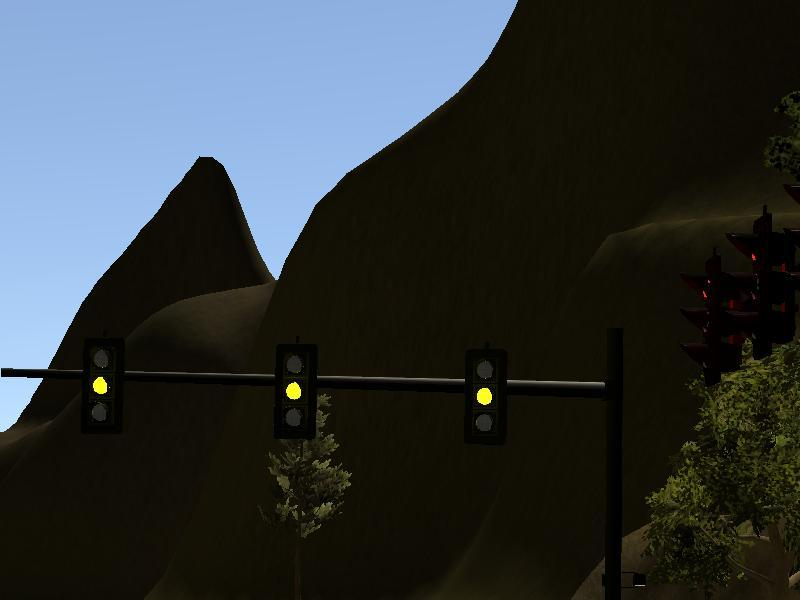Yellow: (275, 346, 318, 440), (465, 349, 506, 441), (83, 339, 123, 432)
